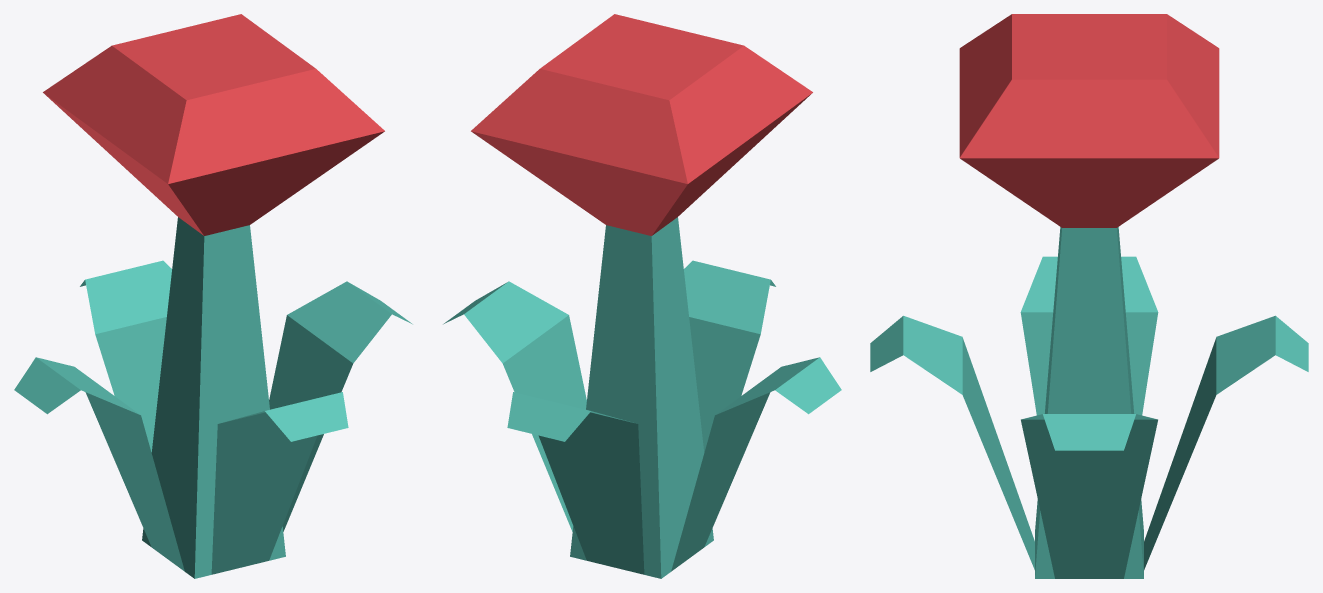
File: flower_red2.fbx
The picture shows the model from 3 angles, left to right: view 1: azimuth 30°, elevation 25°; view 2: azimuth 150°, elevation 25°; view 3: azimuth 270°, elevation 25°; orthographic projection. The views are drawn at different scales.
Visible parts, largest first — view 1: flower_red2; view 2: flower_red2; view 3: flower_red2.
Part boxes in pixels (<box>): flower_red2: <box>14,14,412,578</box>; flower_red2: <box>443,14,841,578</box>; flower_red2: <box>870,14,1308,578</box>.
Size of the model in its own units: 1.71 by 2.2 by 1.71.
